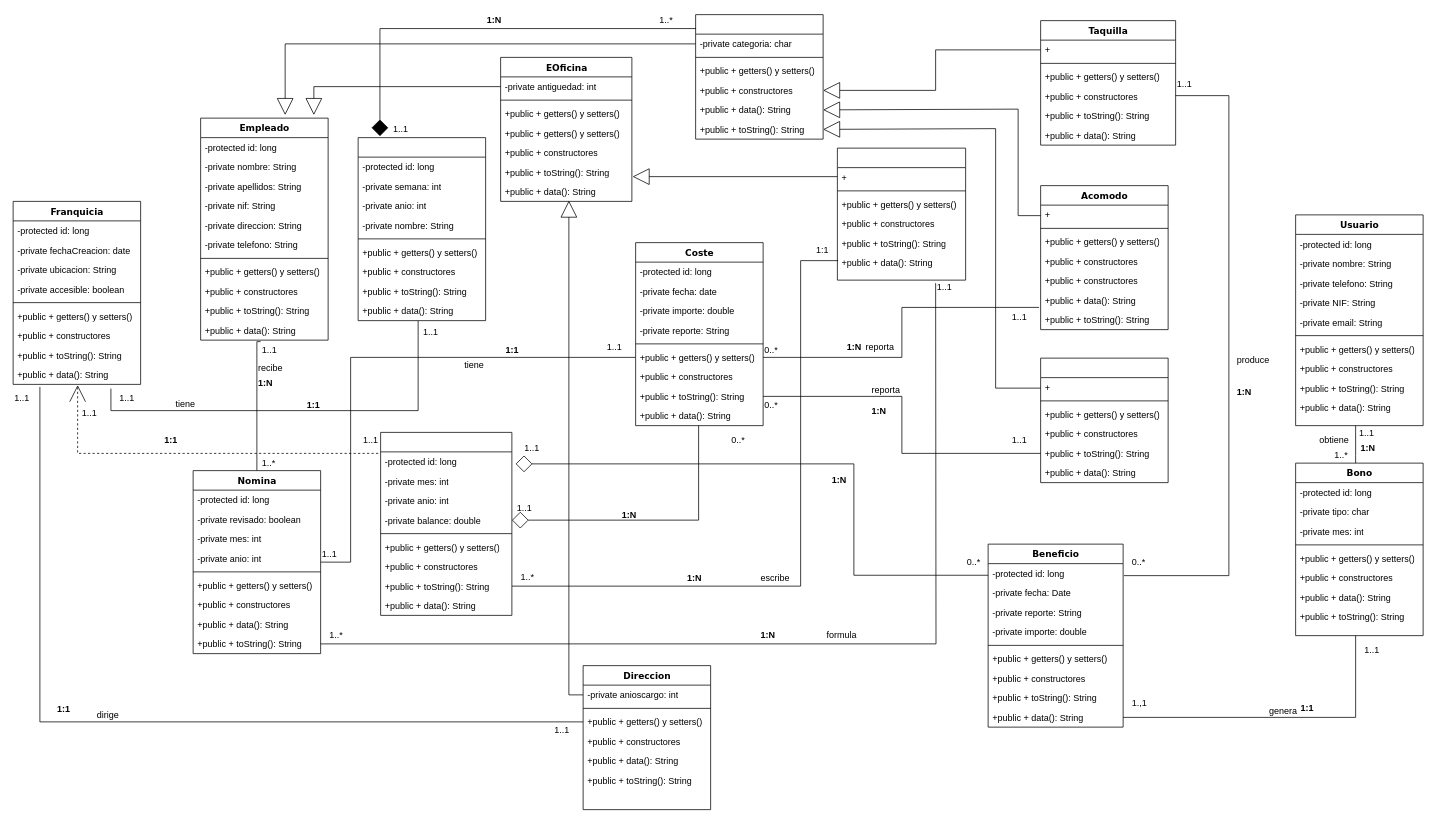
This 1436x824 diagram has some shape labels left out. The box of each missing label's shape, as (x1, y1, x2, y2) in pixels:
ETeatro: (695, 14, 823, 139)
Grupo: (357, 137, 486, 321)
Informe: (380, 432, 512, 615)
Limpieza: (1040, 357, 1168, 483)
Secretariado: (837, 147, 966, 280)
